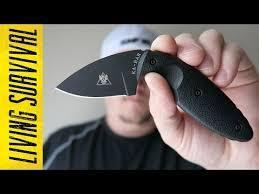Knife: (55, 48, 254, 142)
